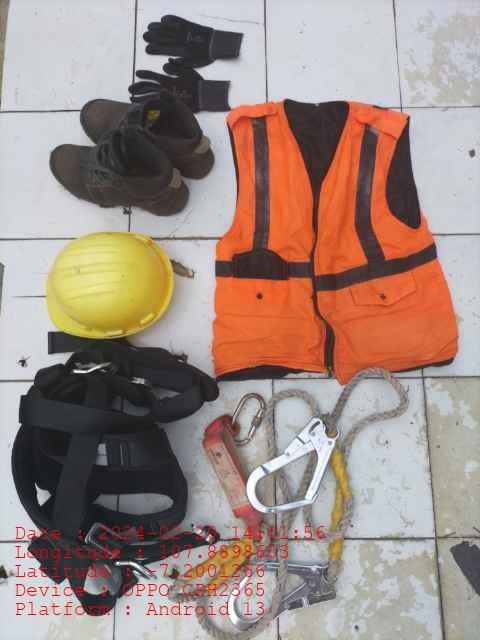HELM: (44, 232, 173, 337)
ROMPI: (229, 98, 417, 373)
SARUNG_TANGAN: (141, 13, 243, 71)
SEPATU: (47, 96, 215, 217)
